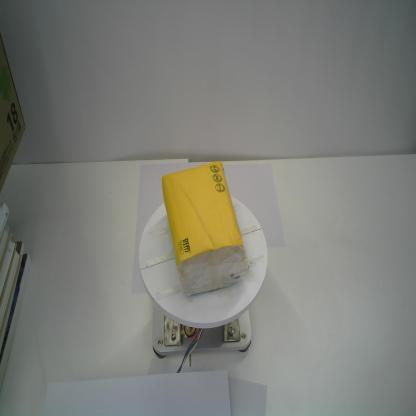Tissue: (162, 160, 248, 297)
